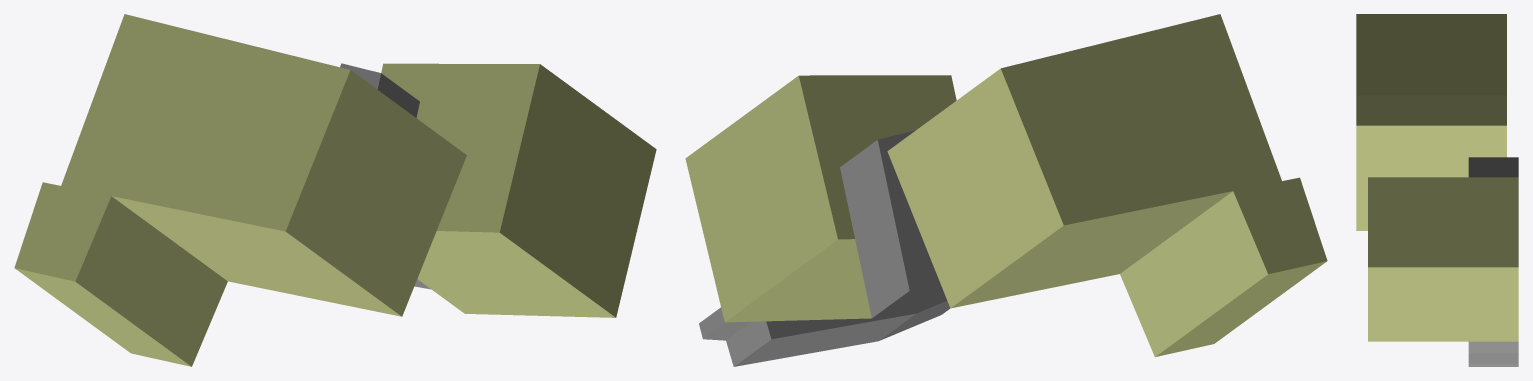
The picture shows the model from 3 angles, left to right: view 1: azimuth 30°, elevation 25°; view 2: azimuth 150°, elevation 25°; view 3: azimuth 270°, elevation 25°; orthographic projection. The views are drawn at different scales.
Visible parts, largest first — view 1: 0_1_0_0_2_1_0_0_1; view 2: 0_1_0_0_2_1_0_0_1; view 3: 0_1_0_0_2_1_0_0_1.
Boxes of the visible parts, box(x1,y1,x2,y2) form: 0_1_0_0_2_1_0_0_1: box(14, 14, 656, 366); 0_1_0_0_2_1_0_0_1: box(685, 14, 1327, 366); 0_1_0_0_2_1_0_0_1: box(1356, 14, 1518, 366).
Size of the model in its own units: 23.85 by 15.45 by 9.7.
